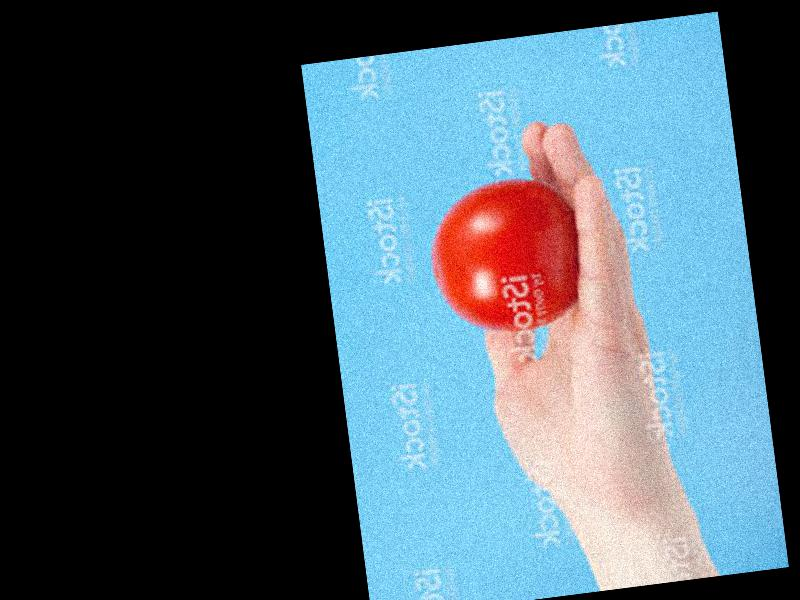Tomato: (426, 172, 586, 338)
